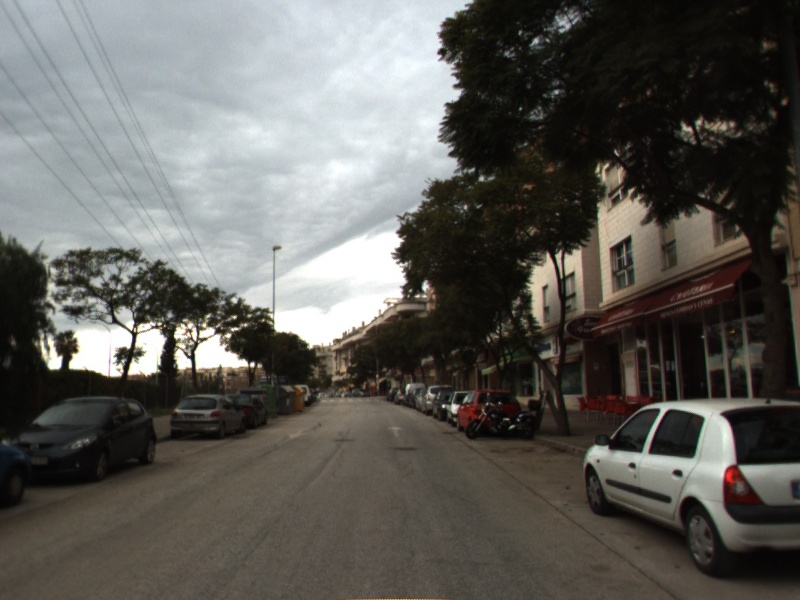STRAIGHT: (384, 424, 407, 439)
